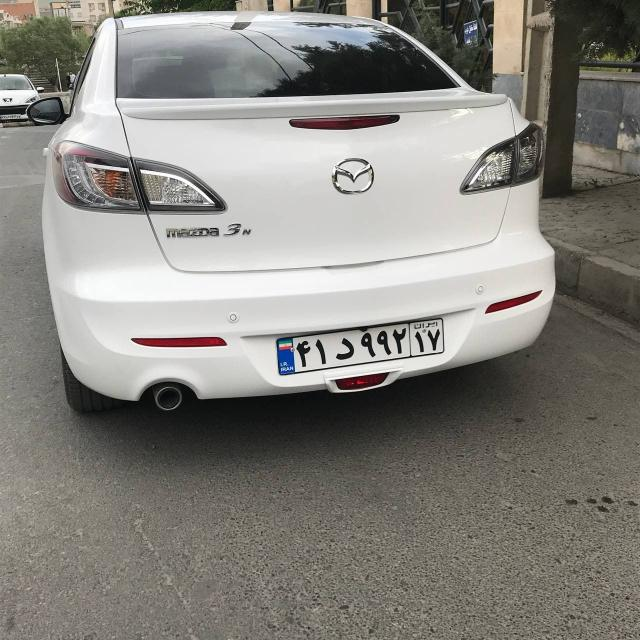Plates: (275, 315, 447, 375)
